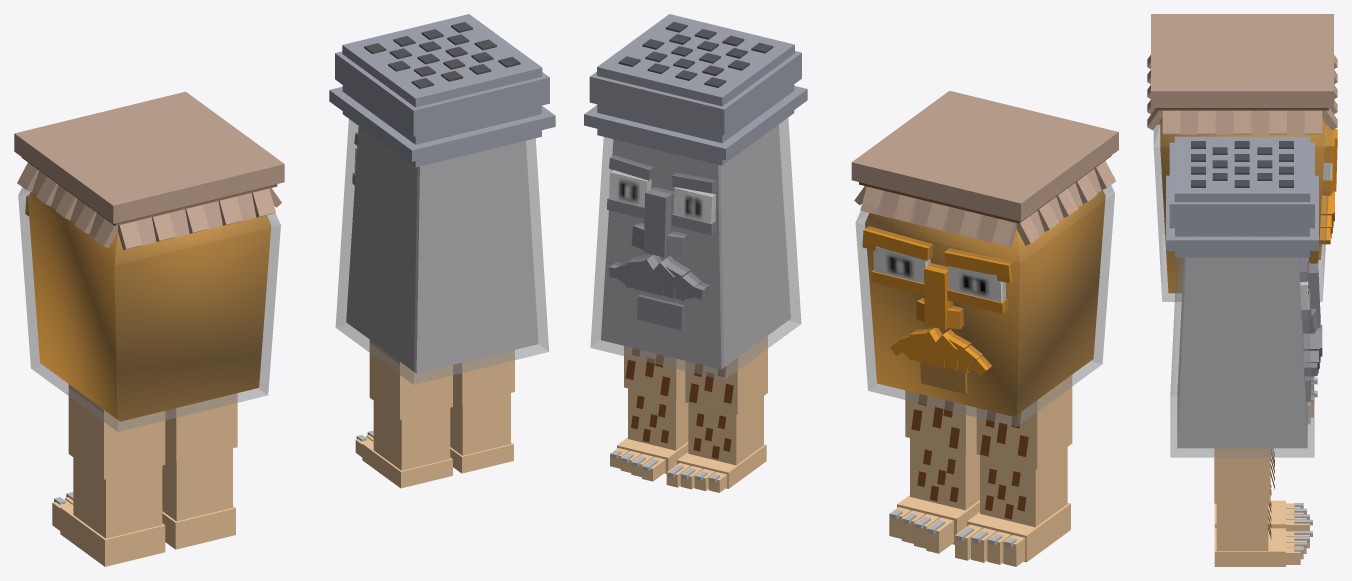
The model's file is GaramaramAndMadungdung.fbx.
The picture shows the model from 3 angles, left to right: view 1: azimuth 30°, elevation 25°; view 2: azimuth 150°, elevation 25°; view 3: azimuth 270°, elevation 25°; orthographic projection. The views are drawn at different scales.
Parts seen in each view (by area): view 1: garamaram; view 2: garamaram; view 3: garamaram.
Boxes of the visible parts, <box> form: garamaram: <box>14,14,555,566</box>; garamaram: <box>584,14,1118,566</box>; garamaram: <box>1147,14,1337,566</box>.
Size of the model in its own units: 775 by 668 by 305.
